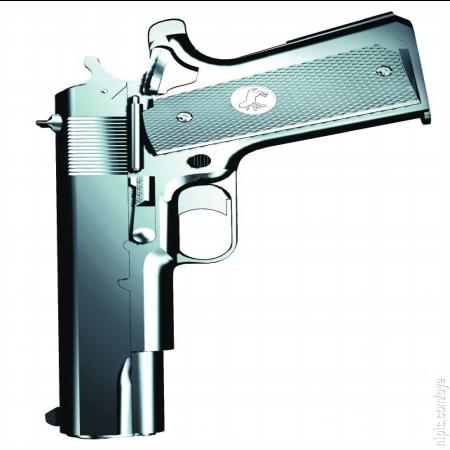Pistol: (33, 10, 431, 438)
